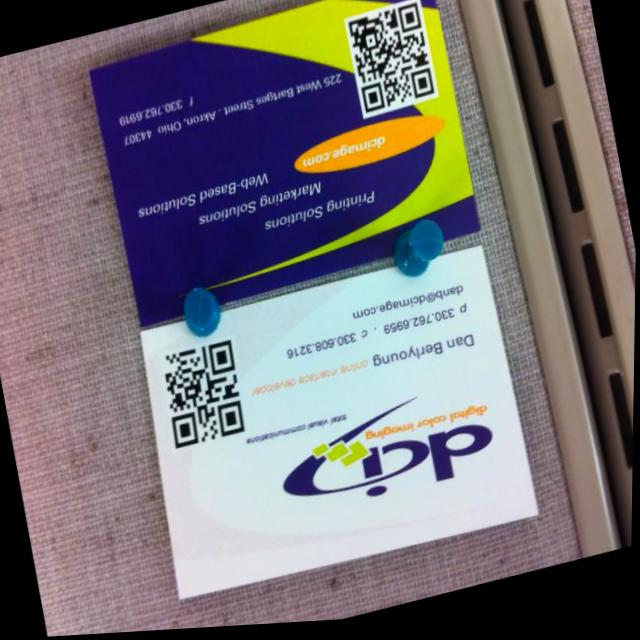qrcode: (346, 7, 436, 119), (160, 342, 251, 452)
